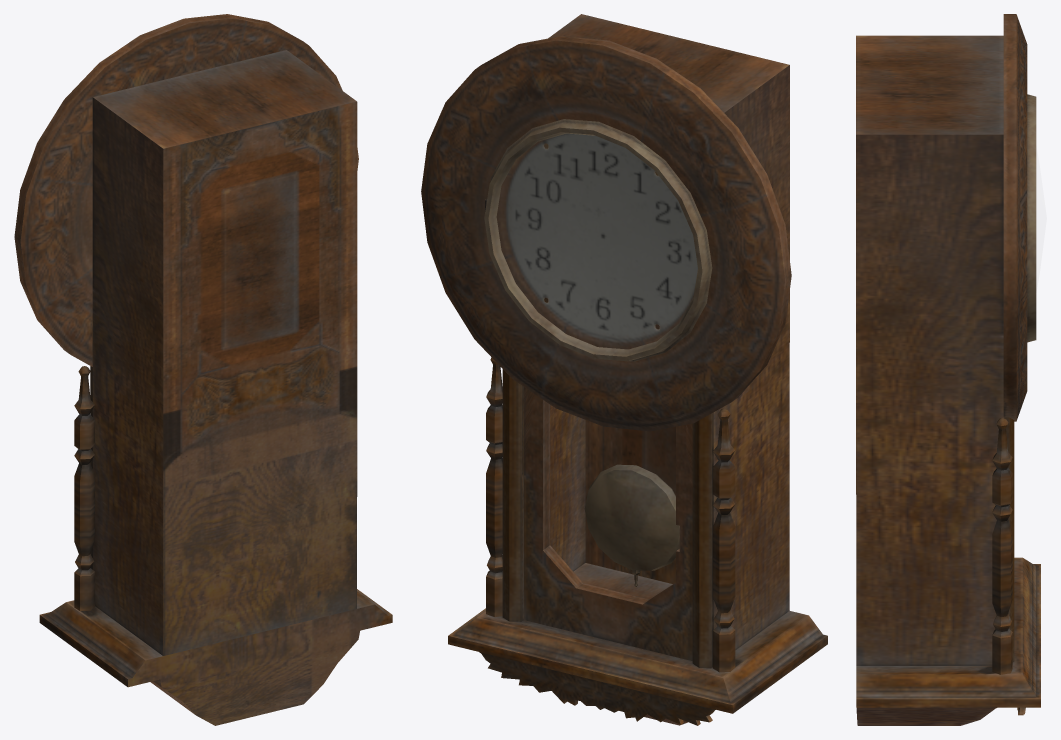
Rendered from clock-wall-pendulum.glb.
3 views of the same model, side by side, from view 1: azimuth 30°, elevation 25°; view 2: azimuth 150°, elevation 25°; view 3: azimuth 270°, elevation 25° (orthographic). The views are drawn at different scales.
Parts seen in each view (by area): view 1: clock-wall-pendulum; view 2: clock-wall-pendulum; view 3: clock-wall-pendulum.
Boxes of the visible parts, x1=… form: clock-wall-pendulum: x1=14, y1=14, x2=392, y2=725; clock-wall-pendulum: x1=421, y1=14, x2=827, y2=725; clock-wall-pendulum: x1=856, y1=14, x2=1040, y2=725.
Bounding box in the file's own units: 0.4383 × 0.7933 × 0.2046.
Materials: 3 (2 with a texture image).
